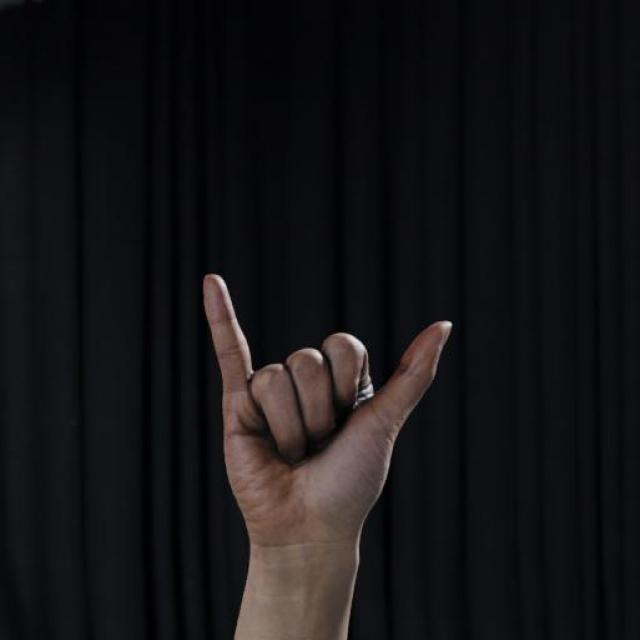Y: (193, 266, 458, 556)
